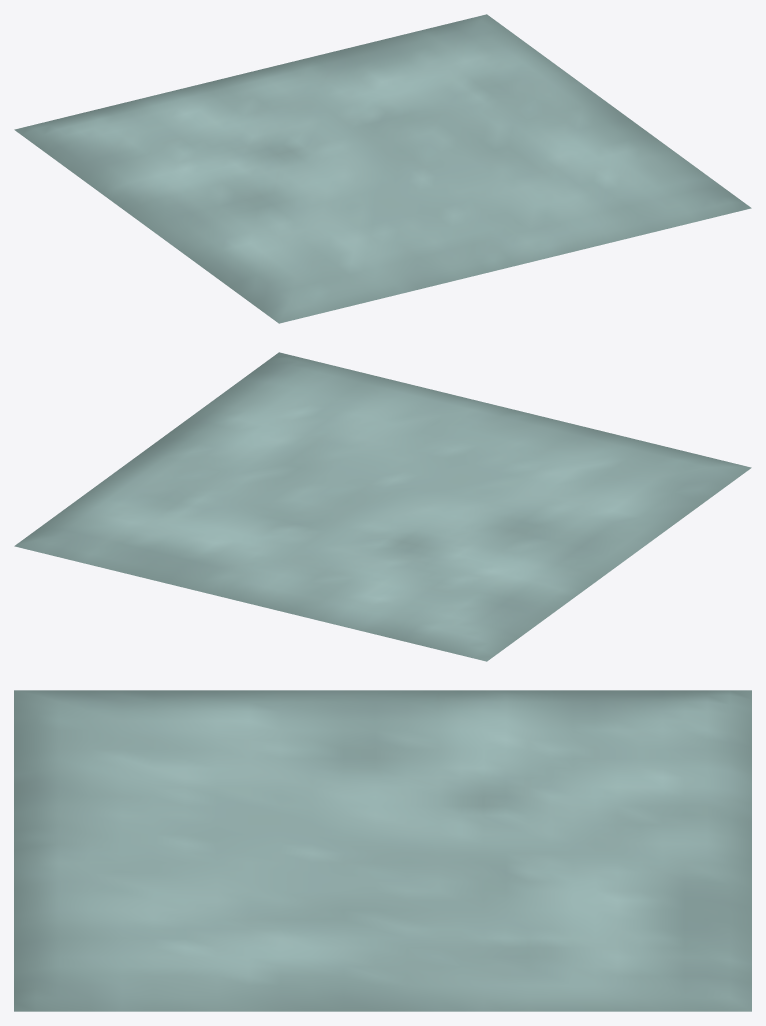
File: Kit_Ground_Calm_Sea_01.glb
3 views of the same model, one above another, from view 1: azimuth 30°, elevation 25°; view 2: azimuth 150°, elevation 25°; view 3: azimuth 270°, elevation 25° (orthographic). The views are drawn at different scales.
Parts seen in each view (by area): view 1: EX_GroundSea_Grass; view 2: EX_GroundSea_Grass; view 3: EX_GroundSea_Grass.
Boxes of the visible parts, x1,y1,x2,y2 form: EX_GroundSea_Grass: (14, 14, 751, 323); EX_GroundSea_Grass: (14, 352, 751, 661); EX_GroundSea_Grass: (14, 690, 751, 1011).
Size of what is drawn, in the model's own units: 34 by 0.35 by 33.
